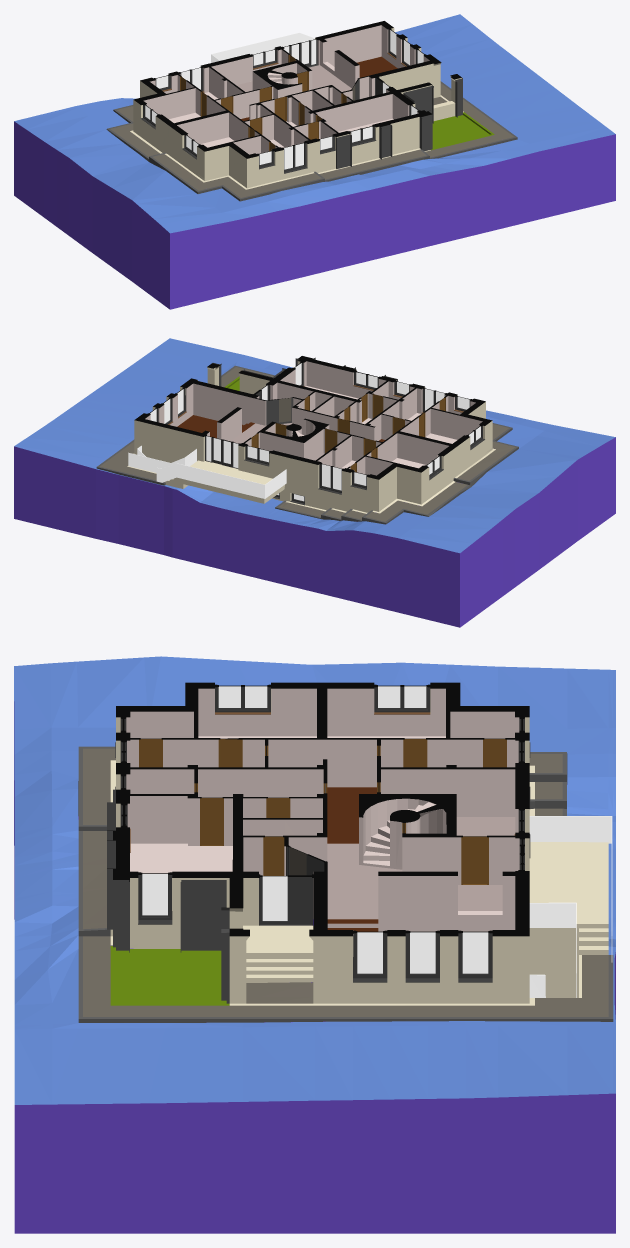
File: casaBacau_1ST-FLOOR.glb
3 renders of one model, top to bottom at view 1: azimuth 30°, elevation 25°; view 2: azimuth 150°, elevation 25°; view 3: azimuth 270°, elevation 25°, orthographic. The views are drawn at different scales.
Parts seen in each view (by area): view 1: Tigla rosie - ondulata.005, Model 1.004, sectionPlane.001, Vopsea - antracit.023, Balustrada-01.001; view 2: Tigla rosie - ondulata.005, Model 1.004, sectionPlane.001, Balustrada-01.001; view 3: Tigla rosie - ondulata.005, Model 1.004, sectionPlane.001, Vopsea - antracit.023, Balustrada-01.001.
Boxes of the visible parts, x1=… form: Tigla rosie - ondulata.005: x1=14, y1=14, x2=615, y2=309; Model 1.004: x1=143, y1=25, x2=429, y2=154; sectionPlane.001: x1=133, y1=21, x2=461, y2=158; Vopsea - antracit.023: x1=336, y1=78, x2=462, y2=168; Balustrada-01.001: x1=211, y1=32, x2=314, y2=62; Tigla rosie - ondulata.005: x1=14, y1=338, x2=615, y2=627; Model 1.004: x1=145, y1=361, x2=482, y2=475; sectionPlane.001: x1=134, y1=356, x2=492, y2=479; Balustrada-01.001: x1=128, y1=445, x2=286, y2=498; Tigla rosie - ondulata.005: x1=14, y1=656, x2=615, y2=1233; Model 1.004: x1=124, y1=686, x2=521, y2=935; sectionPlane.001: x1=107, y1=682, x2=529, y2=936; Vopsea - antracit.023: x1=107, y1=789, x2=229, y2=1003; Balustrada-01.001: x1=529, y1=816, x2=612, y2=997.
Size of the model in its own units: 33.06 by 7.52 by 20.02.
